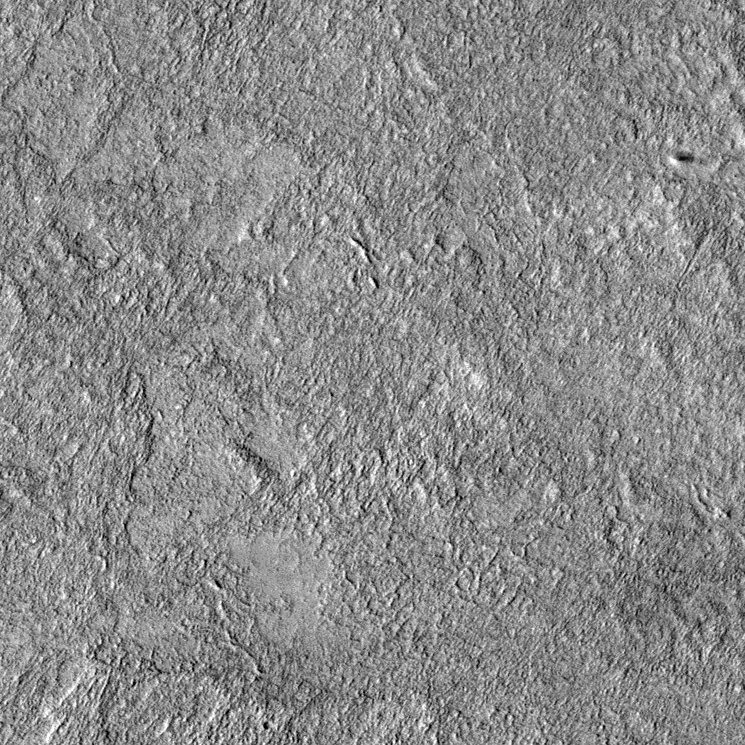dust_devil: (666, 150, 697, 166)
